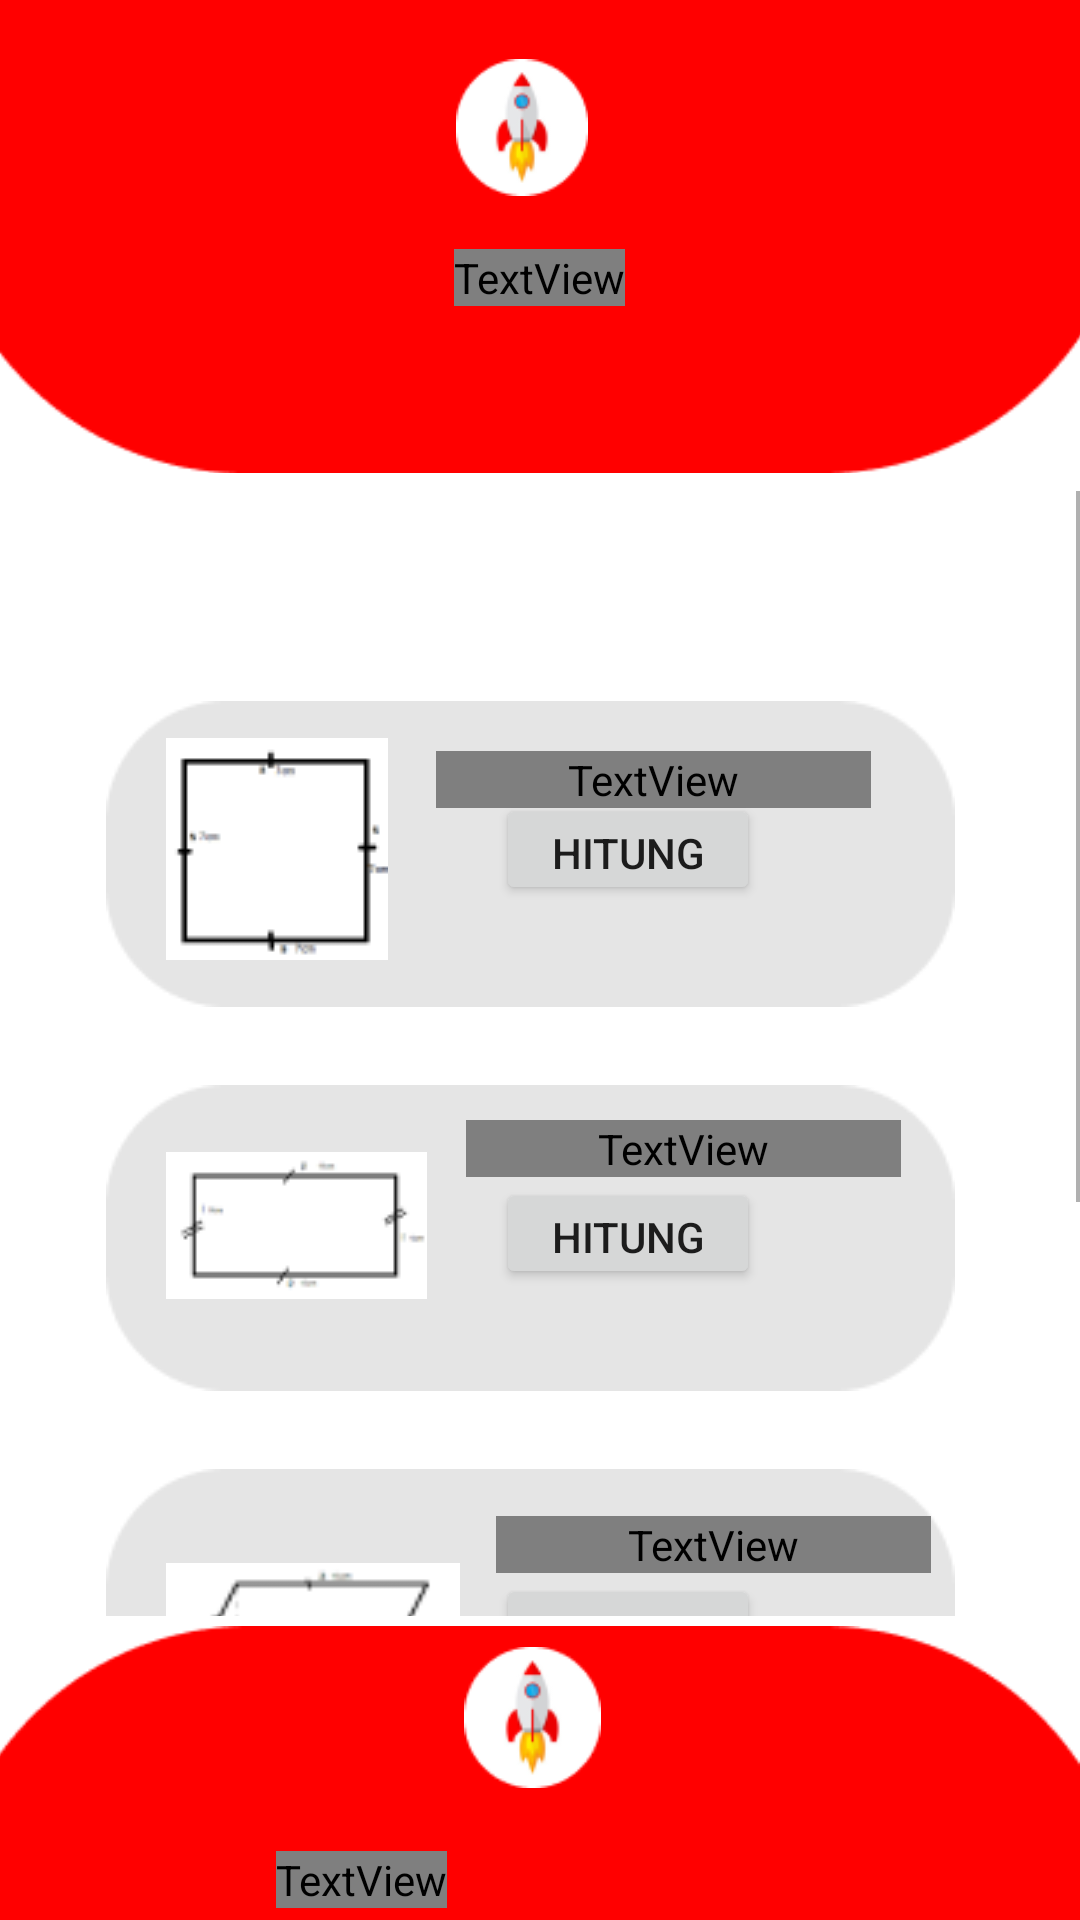

Where to tap for icons on this 1080px×1920px app screen, as (x,y):
persegi panjang: (296,1225)
roket: (522,127), (532,1717)
rumus persegi: (277,849)
